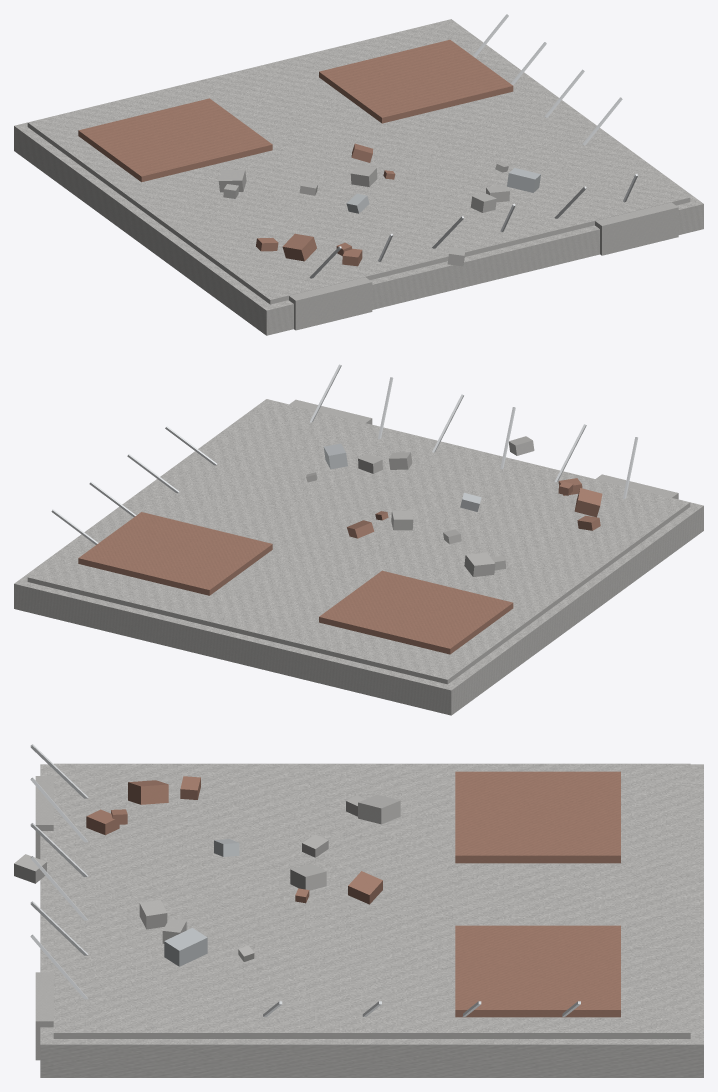
Rendered from BrokenConcreteSlab.glb.
3 renders of one model, top to bottom at view 1: azimuth 30°, elevation 25°; view 2: azimuth 150°, elevation 25°; view 3: azimuth 270°, elevation 25°, orthographic. The views are drawn at different scales.
Visible parts, largest first — view 1: demolition-and-site-clearance-floor-slab-section-with-rebar_ (×4); view 2: demolition-and-site-clearance-floor-slab-section-with-rebar_ (×4); view 3: demolition-and-site-clearance-floor-slab-section-with-rebar_ (×4).
Part boxes in pixels (<box>): demolition-and-site-clearance-floor-slab-section-with-rebar_ (×4): <box>14,14,703,335</box>; demolition-and-site-clearance-floor-slab-section-with-rebar_ (×4): <box>14,364,703,715</box>; demolition-and-site-clearance-floor-slab-section-with-rebar_ (×4): <box>14,744,703,1077</box>.
Size of the model in its own units: 4.09 by 0.6521 by 4.16.
Materials: 4 (2 with a texture image).
